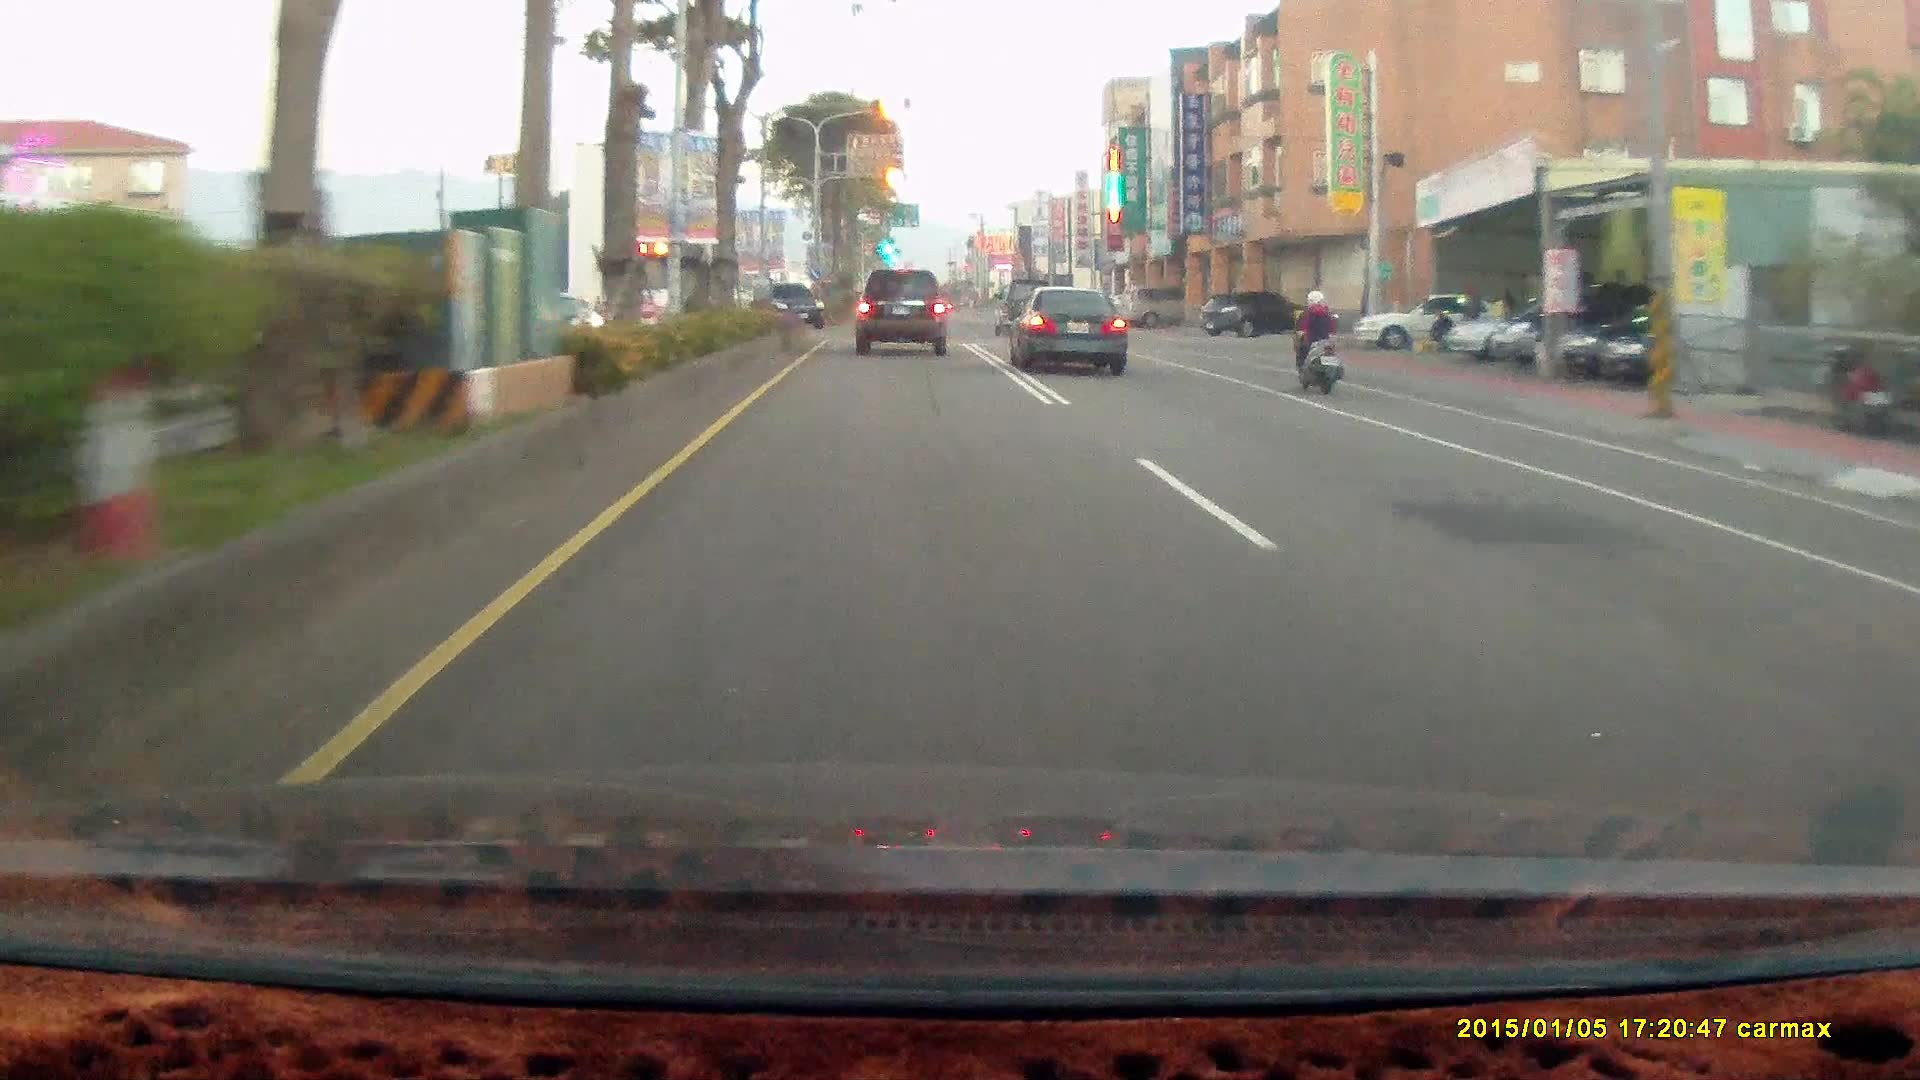pedestrian: (1463, 284, 1484, 341), (1429, 307, 1455, 351)
rider: (1277, 278, 1358, 405), (1286, 288, 1344, 396)
vehicle: (1599, 301, 1784, 388), (1549, 300, 1733, 380), (1486, 285, 1651, 365), (1349, 286, 1520, 357), (1020, 289, 1134, 386), (1006, 285, 1128, 375), (622, 238, 726, 339), (1445, 295, 1600, 360), (1353, 290, 1498, 351), (855, 270, 952, 360), (853, 268, 946, 353), (1204, 293, 1309, 346), (1196, 290, 1307, 337), (751, 281, 829, 333), (1119, 284, 1205, 329), (990, 280, 1055, 335), (754, 283, 826, 331)
